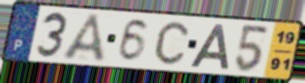3: (34, 11, 69, 59)
5: (232, 22, 272, 74)
6: (116, 18, 150, 63)
A: (60, 12, 108, 64), (188, 23, 230, 70)
C: (153, 20, 190, 66)
